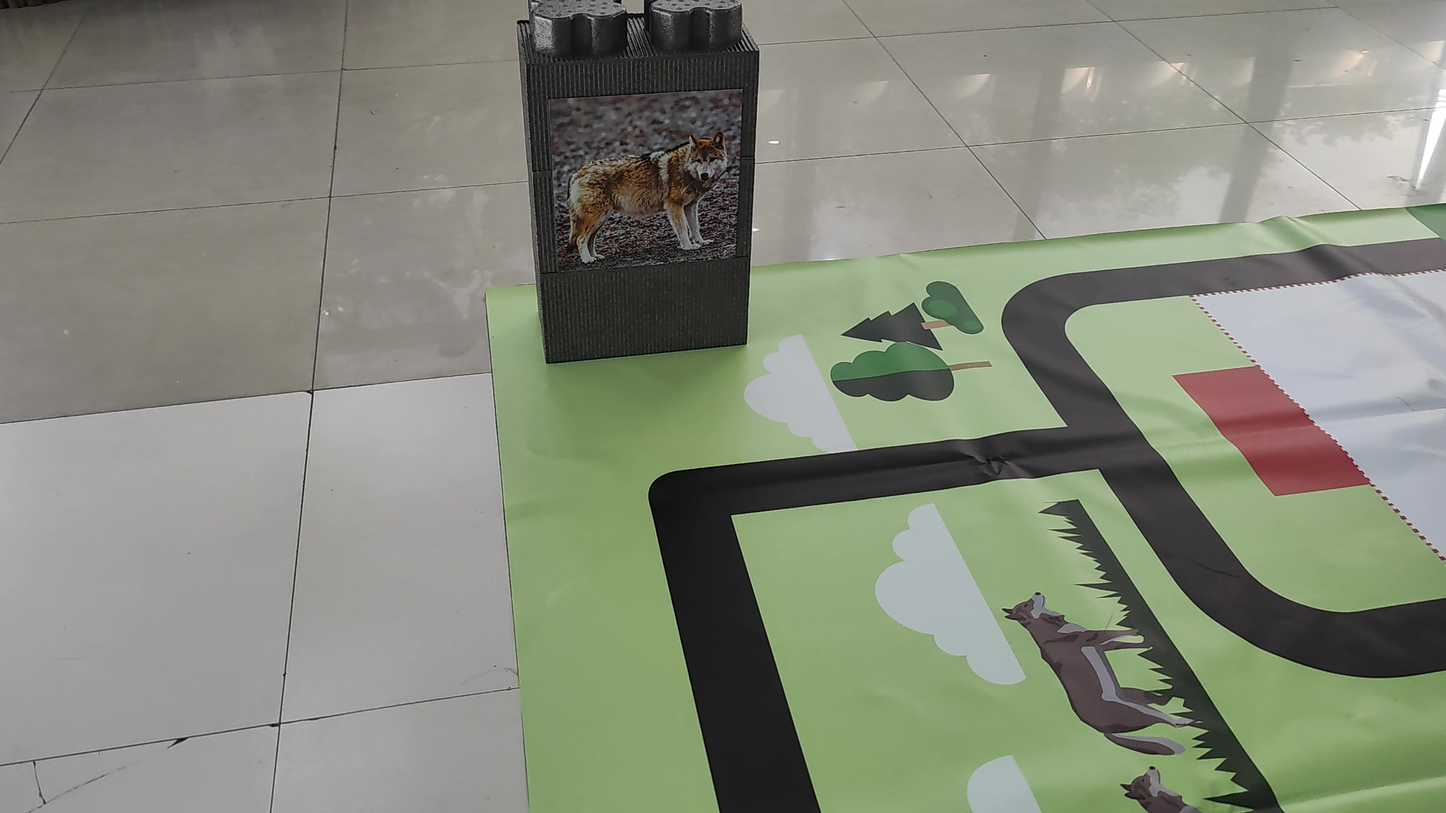wolf: (554, 107, 740, 271)
